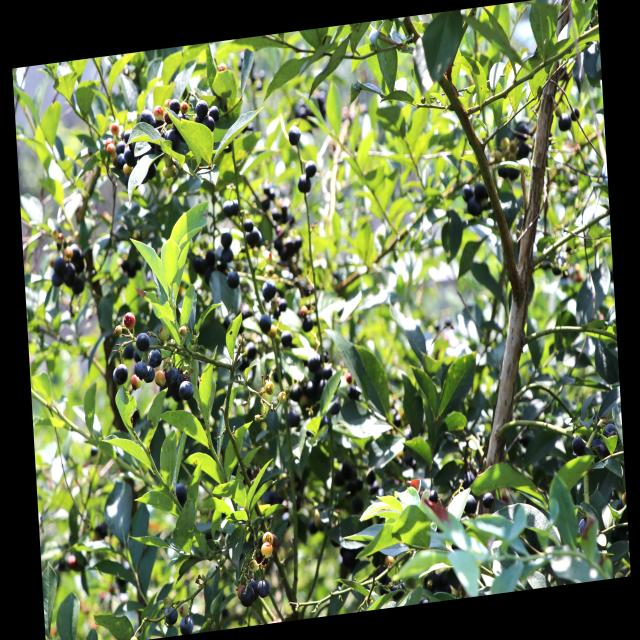blueberry: (162, 600, 180, 626), (112, 363, 130, 387), (260, 278, 278, 301), (177, 612, 195, 635), (123, 141, 138, 168), (278, 328, 296, 350), (239, 583, 255, 607), (286, 124, 303, 146), (258, 312, 274, 335), (296, 169, 311, 193), (302, 156, 318, 178), (256, 577, 272, 599), (168, 366, 181, 392), (135, 332, 151, 353), (222, 197, 238, 217), (178, 380, 194, 399), (147, 349, 162, 368), (226, 269, 240, 289), (139, 108, 153, 128), (166, 128, 179, 148), (302, 314, 315, 333), (195, 99, 208, 118), (134, 361, 148, 378), (202, 114, 215, 132), (144, 365, 156, 383), (164, 364, 176, 382), (116, 151, 128, 169), (208, 102, 220, 120), (243, 216, 255, 233), (169, 98, 180, 114), (250, 581, 259, 600), (153, 119, 165, 132), (115, 140, 126, 152), (194, 114, 202, 124)
blueberry-halfripe: (123, 310, 136, 330), (131, 372, 141, 390), (153, 104, 164, 120), (106, 142, 117, 157), (164, 109, 174, 125), (110, 122, 120, 136), (104, 136, 115, 146)
blueberry-unripe: (157, 324, 171, 344), (154, 368, 166, 388), (260, 541, 273, 559), (262, 530, 274, 546), (248, 558, 259, 574), (163, 151, 173, 167), (179, 100, 189, 116), (162, 164, 170, 179), (168, 163, 176, 177), (178, 325, 187, 337)
